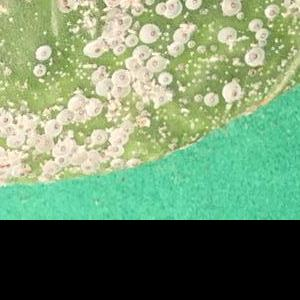Femea: (173, 26, 189, 42), (222, 84, 239, 98), (36, 46, 52, 60), (91, 130, 106, 144), (204, 92, 220, 105), (168, 41, 182, 55), (113, 44, 127, 57), (147, 57, 162, 69), (265, 4, 279, 16), (32, 64, 47, 75), (47, 120, 60, 132), (125, 34, 137, 46), (156, 74, 172, 83), (158, 3, 168, 15), (109, 145, 120, 155), (250, 19, 259, 31), (256, 30, 266, 40)
